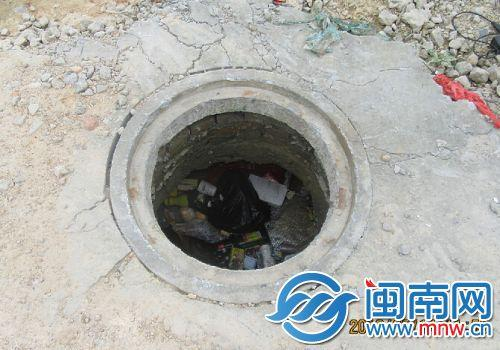lose: (107, 63, 378, 310)
